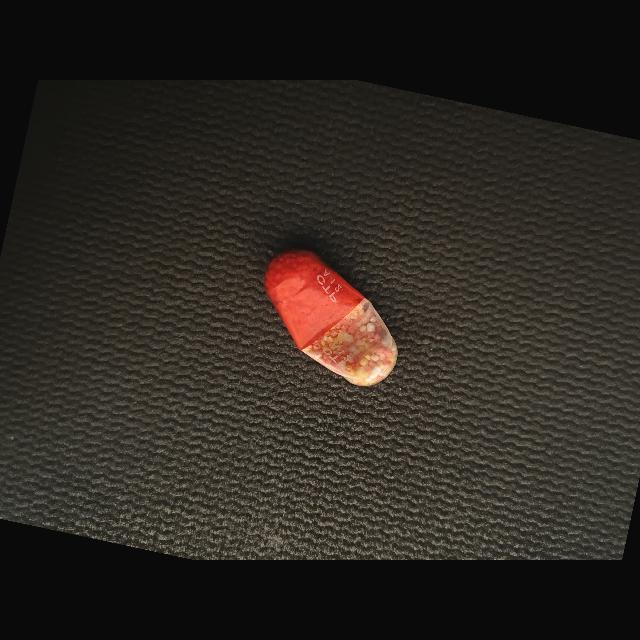Defective Capsule: (264, 249, 398, 386)
